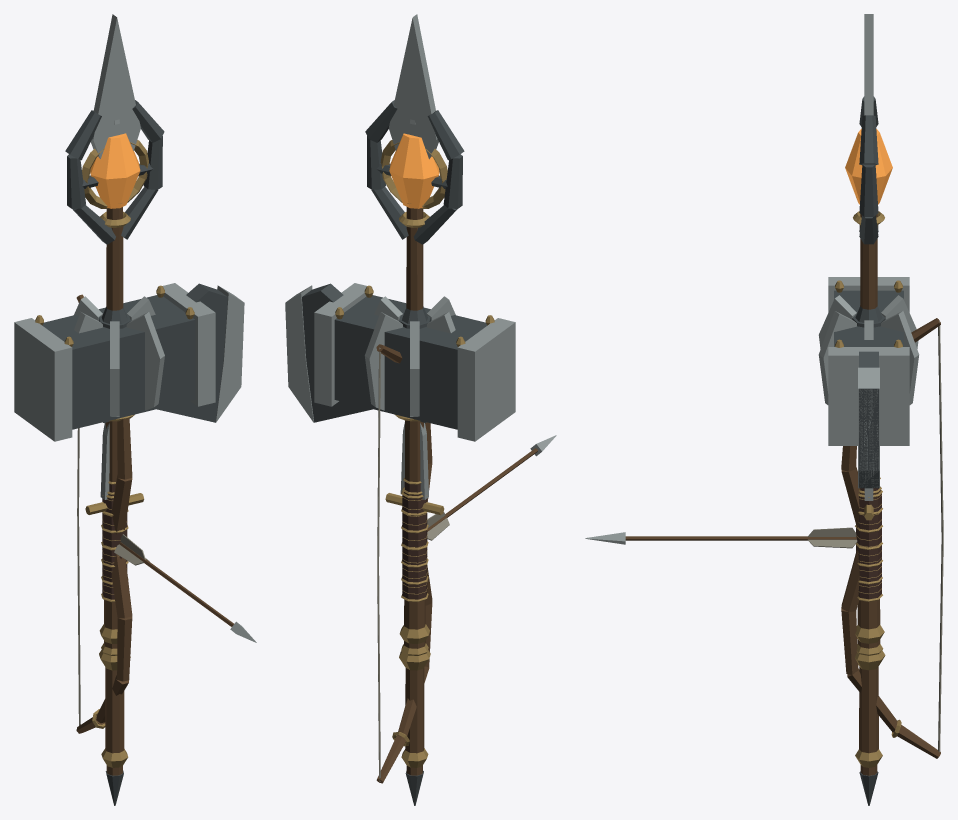
The model's file is hero_weapons_library.glb.
The picture shows the model from 3 angles, left to right: view 1: azimuth 30°, elevation 25°; view 2: azimuth 150°, elevation 25°; view 3: azimuth 270°, elevation 25°; orthographic projection.
Visible parts, largest first — view 1: WPN_Hammer_00_Warden__Body, WPN_Staff_00_CinderCrook__Body, WPN_Mace_00_FlangedIron__Body, WPN_Axe_00_Riven__Body, WPN_Spear_00_AshPike__Body, WPN_Bow_00_ThornRecurve__Body, AMMO_Arrow_00_Iron__Body, WPN_Dagger_00_Rondel__Body, WPN_Bow_00_ThornRecurve__String; view 2: WPN_Hammer_00_Warden__Body, WPN_Staff_00_CinderCrook__Body, WPN_Mace_00_FlangedIron__Body, WPN_Axe_00_Riven__Body, WPN_Spear_00_AshPike__Body, WPN_Bow_00_ThornRecurve__Body, WPN_Dagger_00_Rondel__Body, AMMO_Arrow_00_Iron__Body, WPN_Bow_00_ThornRecurve__String; view 3: WPN_Hammer_00_Warden__Body, WPN_Staff_00_CinderCrook__Body, WPN_Mace_00_FlangedIron__Body, WPN_Bow_00_ThornRecurve__Body, WPN_Axe_00_Riven__Body, AMMO_Arrow_00_Iron__Body, WPN_Spear_00_AshPike__Body, WPN_Bow_00_ThornRecurve__String.
Part boxes in pixels (x1=…): WPN_Hammer_00_Warden__Body: x1=14, y1=283, x2=215, y2=670; WPN_Staff_00_CinderCrook__Body: x1=65, y1=100, x2=164, y2=767; WPN_Mace_00_FlangedIron__Body: x1=74, y1=296, x2=164, y2=643; WPN_Axe_00_Riven__Body: x1=101, y1=283, x2=244, y2=655; WPN_Spear_00_AshPike__Body: x1=82, y1=14, x2=152, y2=805; WPN_Bow_00_ThornRecurve__Body: x1=76, y1=294, x2=132, y2=733; AMMO_Arrow_00_Iron__Body: x1=114, y1=534, x2=256, y2=642; WPN_Dagger_00_Rondel__Body: x1=85, y1=423, x2=144, y2=514; WPN_Bow_00_ThornRecurve__String: x1=77, y1=428, x2=80, y2=725; WPN_Hammer_00_Warden__Body: x1=314, y1=283, x2=515, y2=670; WPN_Staff_00_CinderCrook__Body: x1=365, y1=100, x2=464, y2=767; WPN_Mace_00_FlangedIron__Body: x1=364, y1=296, x2=455, y2=643; WPN_Axe_00_Riven__Body: x1=285, y1=283, x2=428, y2=655; WPN_Spear_00_AshPike__Body: x1=376, y1=14, x2=447, y2=805; WPN_Bow_00_ThornRecurve__Body: x1=376, y1=344, x2=432, y2=783; WPN_Dagger_00_Rondel__Body: x1=385, y1=422, x2=444, y2=515; AMMO_Arrow_00_Iron__Body: x1=427, y1=435, x2=556, y2=540; WPN_Bow_00_ThornRecurve__String: x1=377, y1=347, x2=380, y2=781; WPN_Hammer_00_Warden__Body: x1=828, y1=277, x2=909, y2=670; WPN_Staff_00_CinderCrook__Body: x1=845, y1=96, x2=892, y2=767; WPN_Mace_00_FlangedIron__Body: x1=818, y1=295, x2=919, y2=643; WPN_Bow_00_ThornRecurve__Body: x1=841, y1=318, x2=940, y2=758; WPN_Axe_00_Riven__Body: x1=856, y1=351, x2=883, y2=655; AMMO_Arrow_00_Iron__Body: x1=585, y1=527, x2=857, y2=548; WPN_Spear_00_AshPike__Body: x1=859, y1=14, x2=880, y2=805; WPN_Bow_00_ThornRecurve__String: x1=938, y1=321, x2=943, y2=752.
Bounding box in the file's own units: 0.6425 × 2.37 × 0.973.
